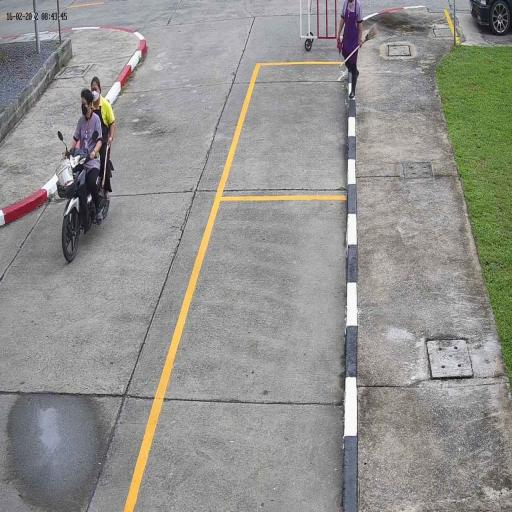motorcycle: (56, 144, 116, 264)
